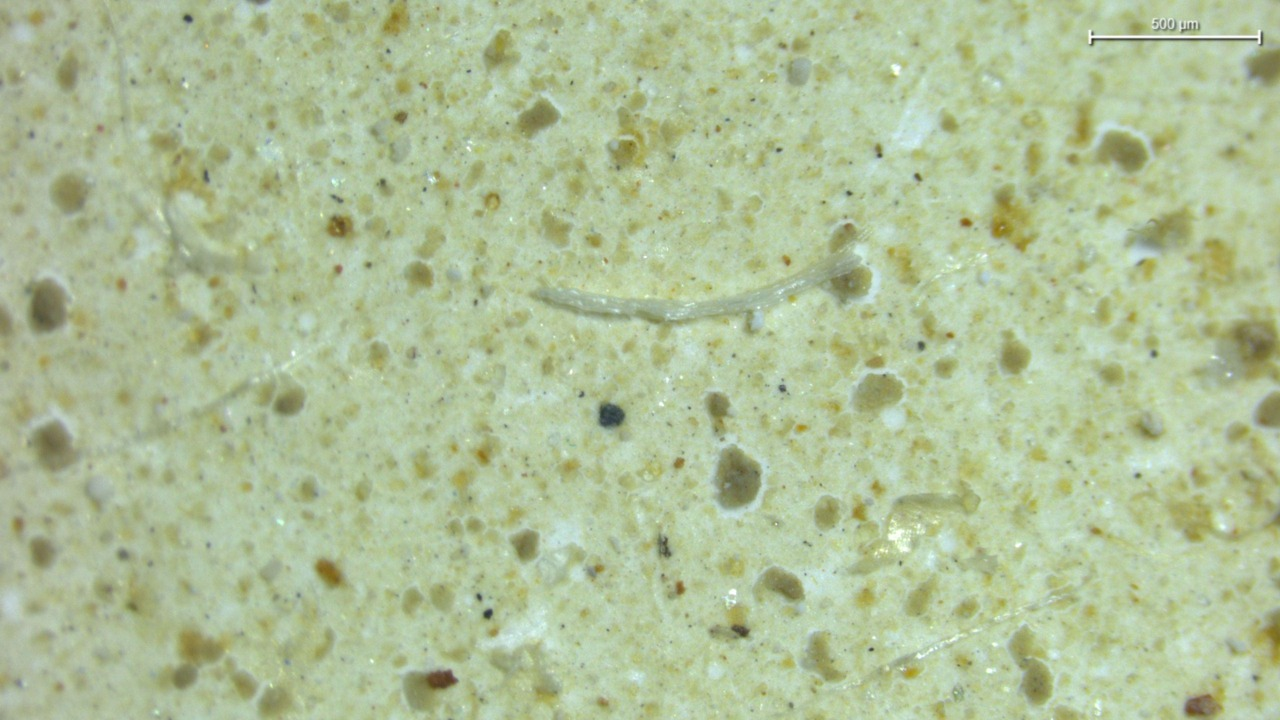microplastic_fragment: (860, 493, 978, 571), (788, 58, 811, 85)
